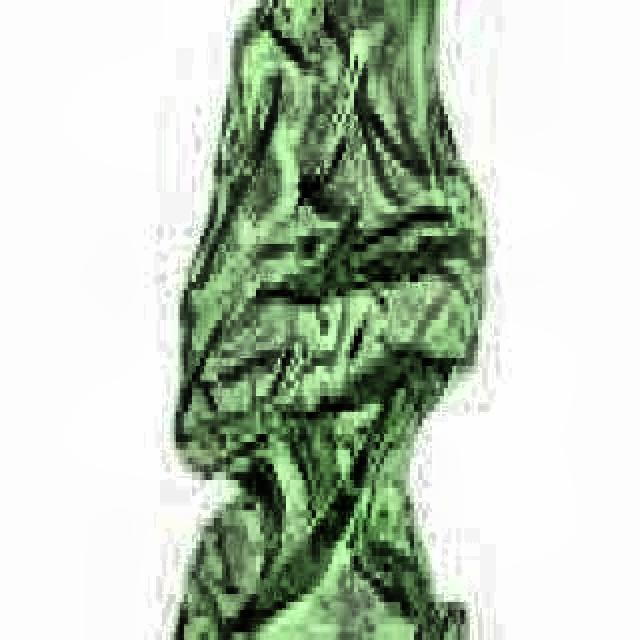plastic: (144, 0, 504, 640)
